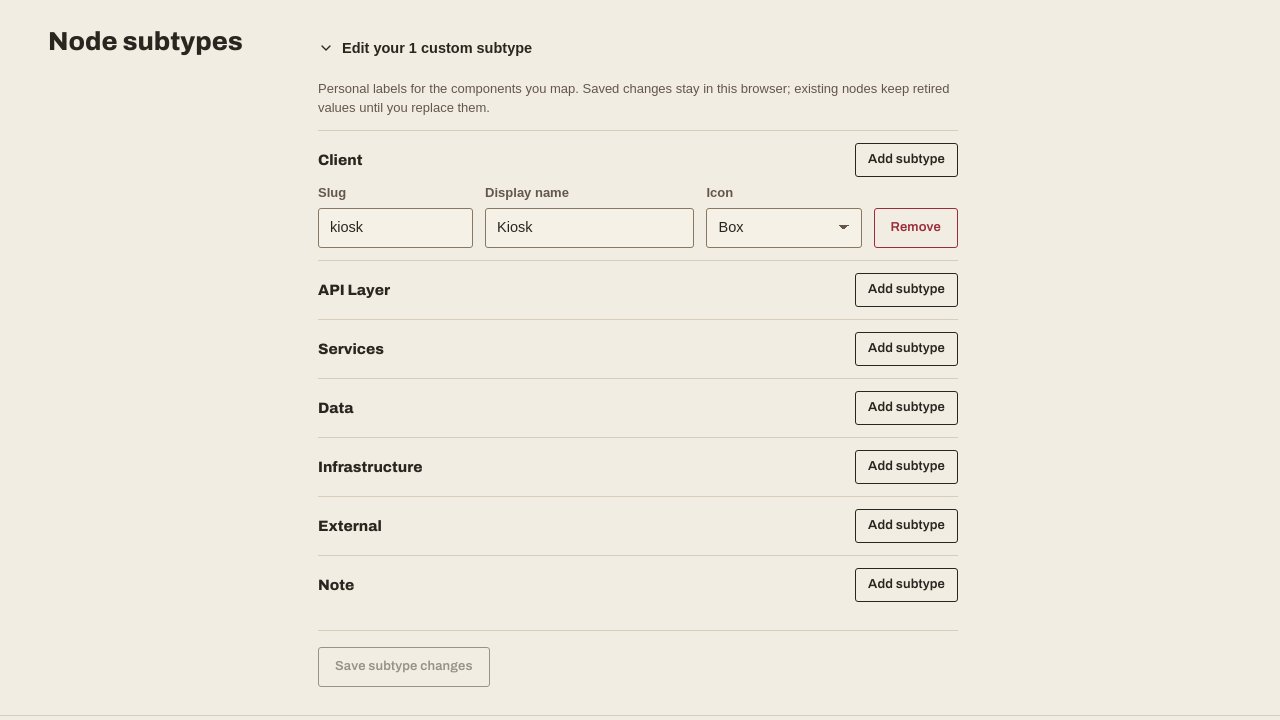
Test case: CustomSubtypesSettings › shows a vault failure and restores the last committed catalog
Replace the text in the field named "Client subtype 1 display name" with "Changed locally" at (590, 228), box [485,208,694,248]
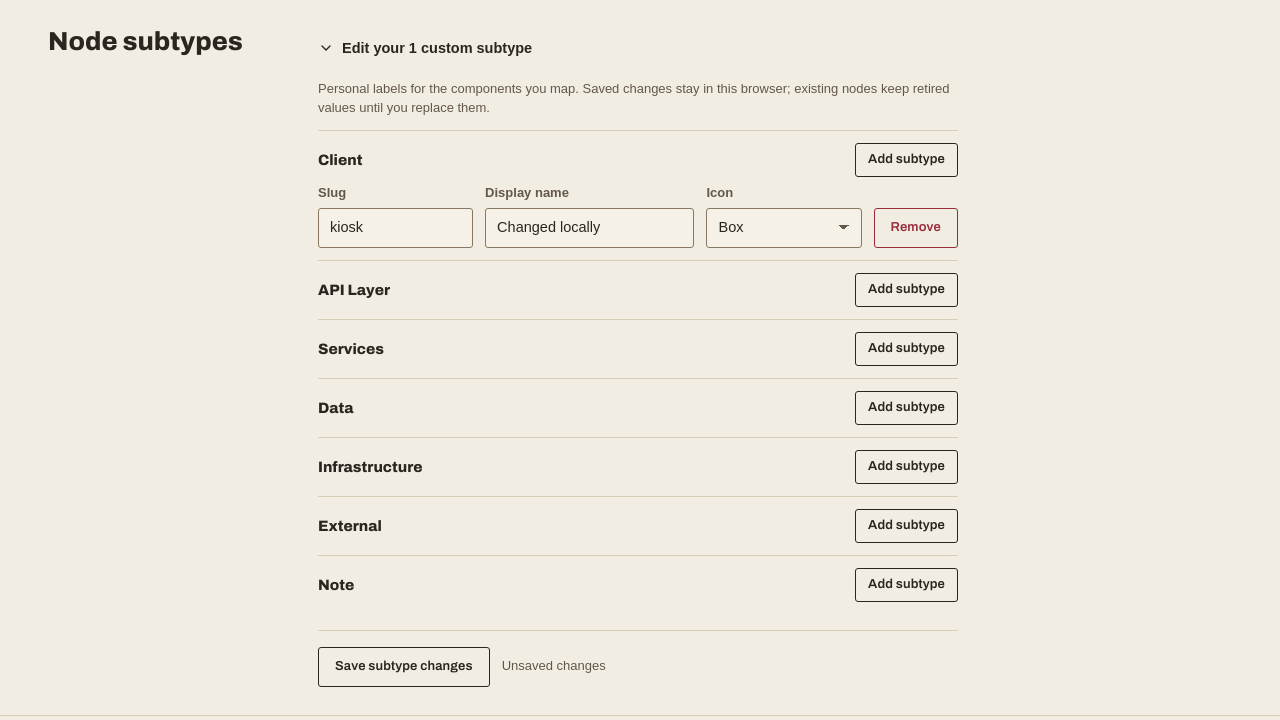
Click the button "Save subtype changes" at (404, 667), box [318,647,490,687]
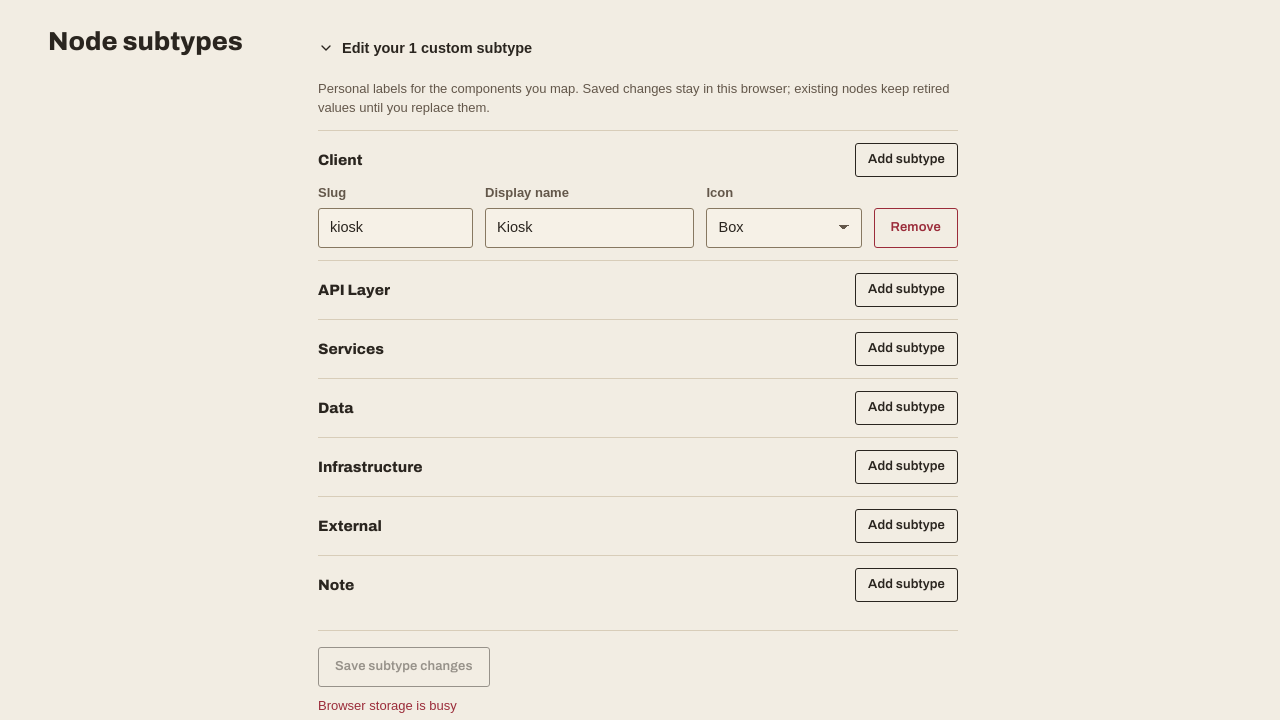
Result: the message reads "Browser storage is busy" at [318,698,457,713]
Result: the field named "Client subtype 1 display name" holds "Kiosk" at [485,208,694,248]
Result: the button "Save subtype changes" is disabled at [318,647,490,687]
